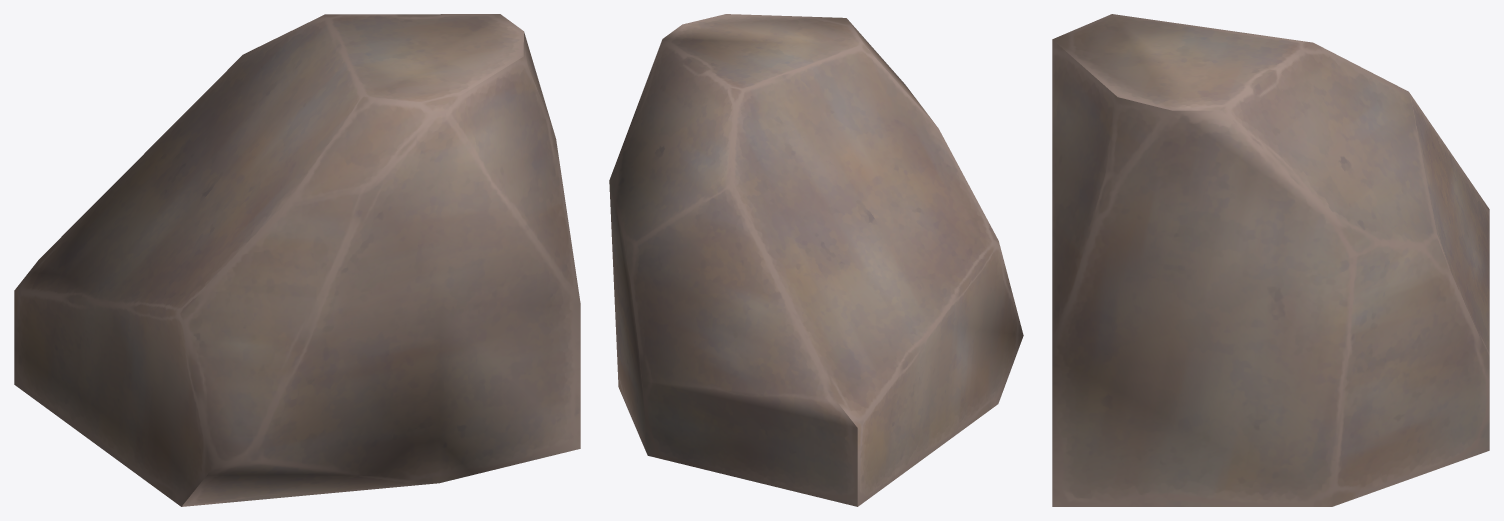
The model's file is small_stone.gltf.
3 renders of one model, left to right at view 1: azimuth 30°, elevation 25°; view 2: azimuth 150°, elevation 25°; view 3: azimuth 270°, elevation 25°, orthographic. The views are drawn at different scales.
Parts seen in each view (by area): view 1: Small stone; view 2: Small stone; view 3: Small stone.
Part boxes in pixels (x1,y1,x2,y2): Small stone: [14, 14, 580, 506]; Small stone: [609, 14, 1023, 506]; Small stone: [1052, 14, 1489, 506].
Bounding box in the file's own units: 0.5 × 0.5 × 0.5.
1 material, 1 textured.
